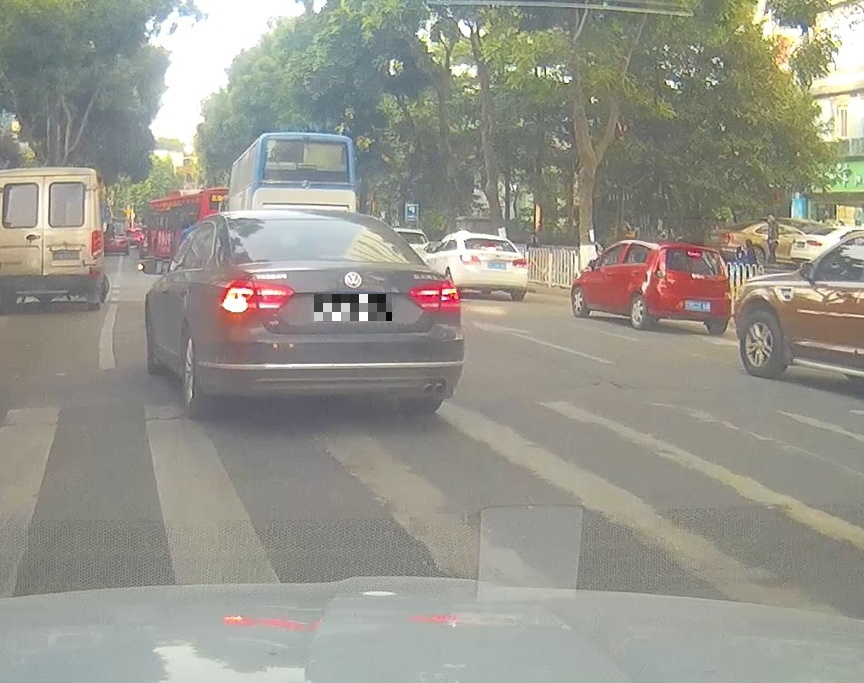L_light: (216, 279, 293, 317), (653, 263, 667, 278)
R_light: (408, 278, 463, 313), (721, 266, 730, 280)
T_light: (315, 254, 347, 260), (687, 251, 702, 257)
day-brake: (650, 242, 733, 335)
day-right: (216, 210, 464, 416)
plate_1: (314, 294, 392, 321)
